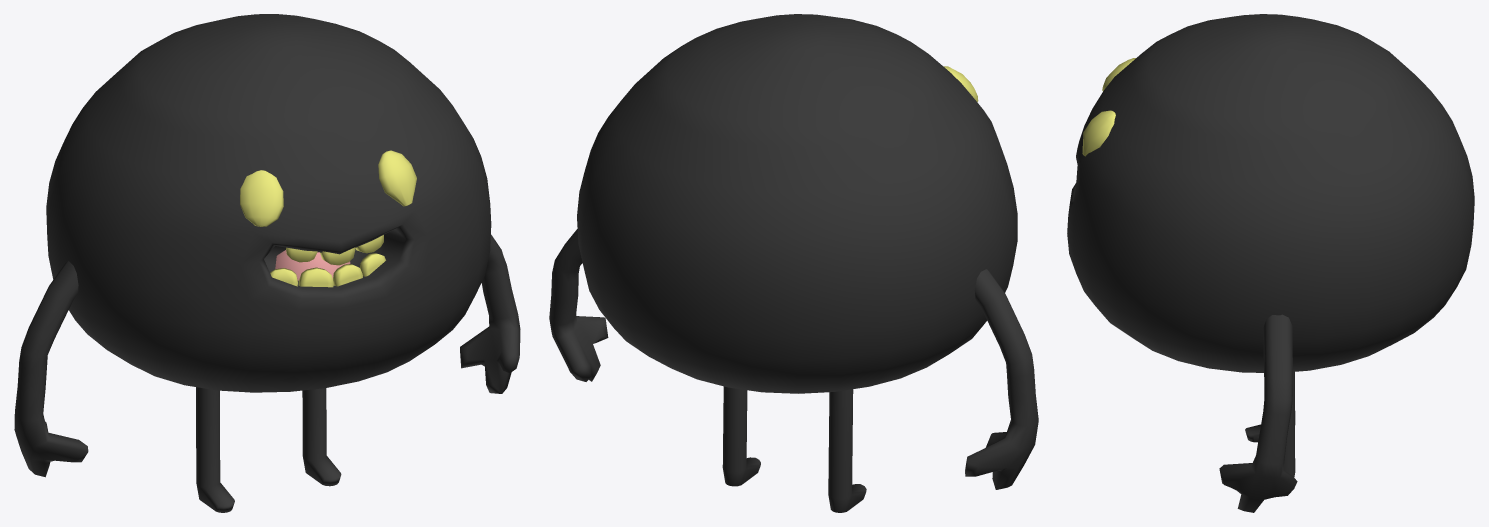
Rendered from DarkEnemySphere 1Low.fbx.
The picture shows the model from 3 angles, left to right: view 1: azimuth 30°, elevation 25°; view 2: azimuth 150°, elevation 25°; view 3: azimuth 270°, elevation 25°; orthographic projection. The views are drawn at different scales.
Parts seen in each view (by area): view 1: DarkSphere73; view 2: DarkSphere73; view 3: DarkSphere73.
Boxes of the visible parts, x1,y1,x2,y2 form: DarkSphere73: (14,14,520,512); DarkSphere73: (549,14,1038,512); DarkSphere73: (1067,14,1474,512).
Size of the model in its own units: 2.81 by 2.48 by 2.15.
